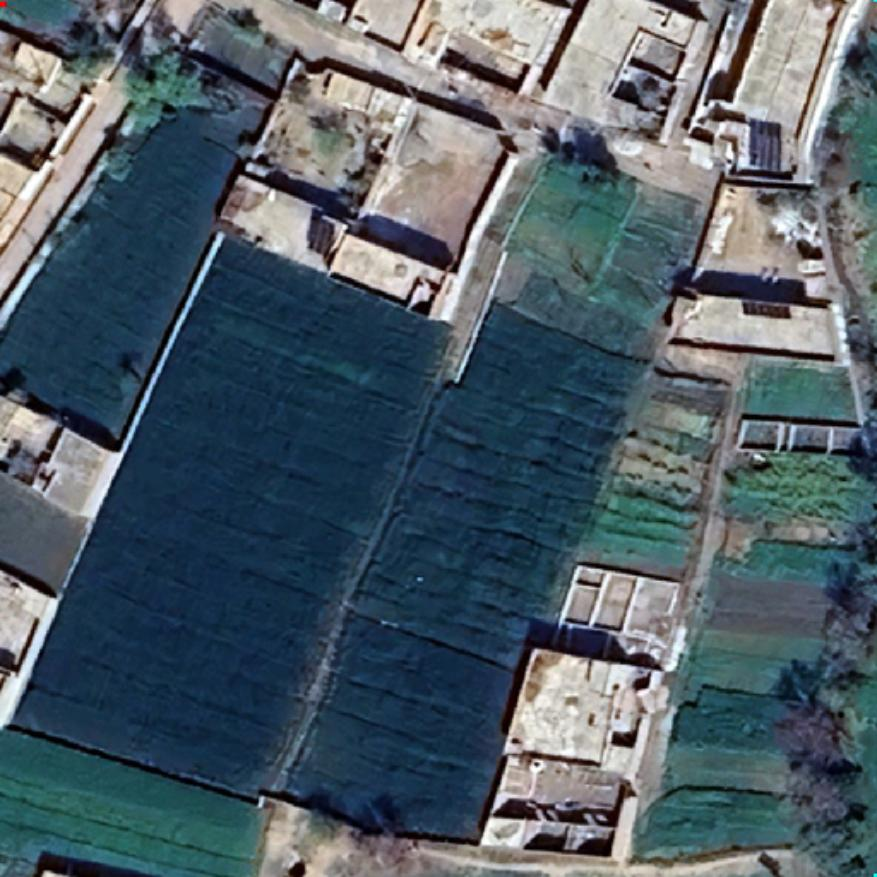Solarpanel: (745, 115, 785, 171), (304, 213, 338, 259), (738, 299, 794, 321)
